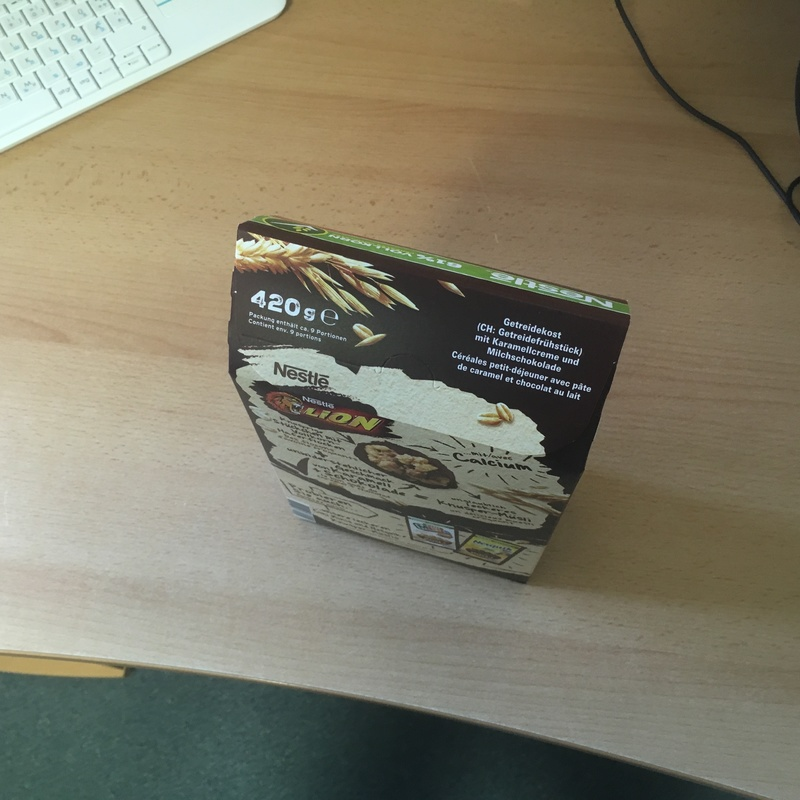cereals: (228, 216, 632, 589)
